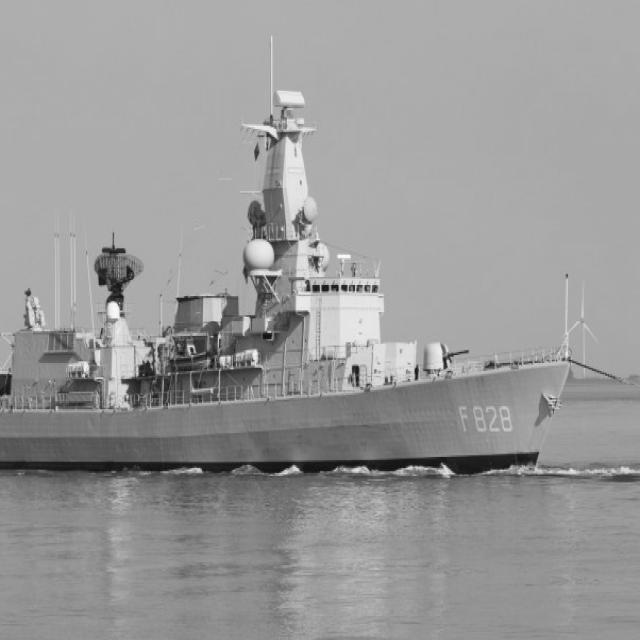Fragata: (1, 55, 574, 484)
